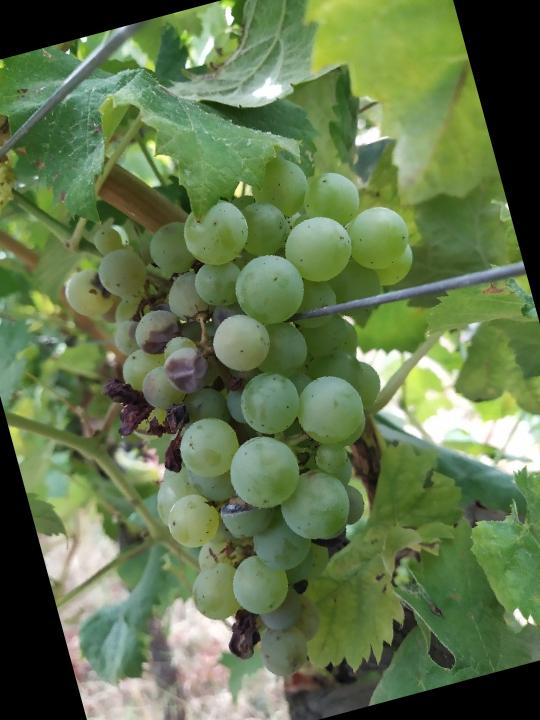grape: (42, 125, 515, 709)
